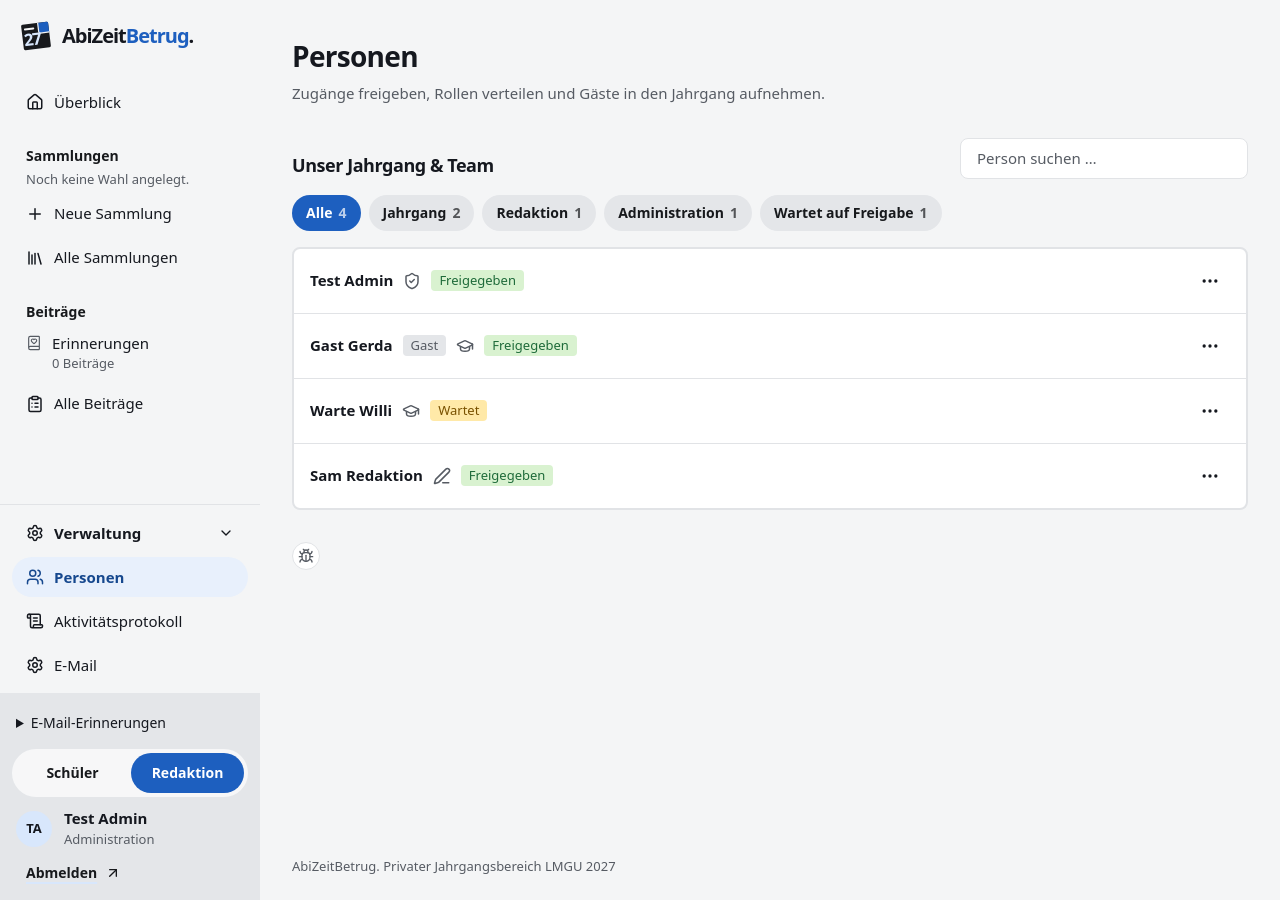
verwaltung › filters people with the quick filter chips
expect the text "Gast Gerda" is shown: met, box [310,334,393,357]
Step 1. Click the button "Wartet auf Freigabe 1" → (851, 213), box [760,195,942,231]
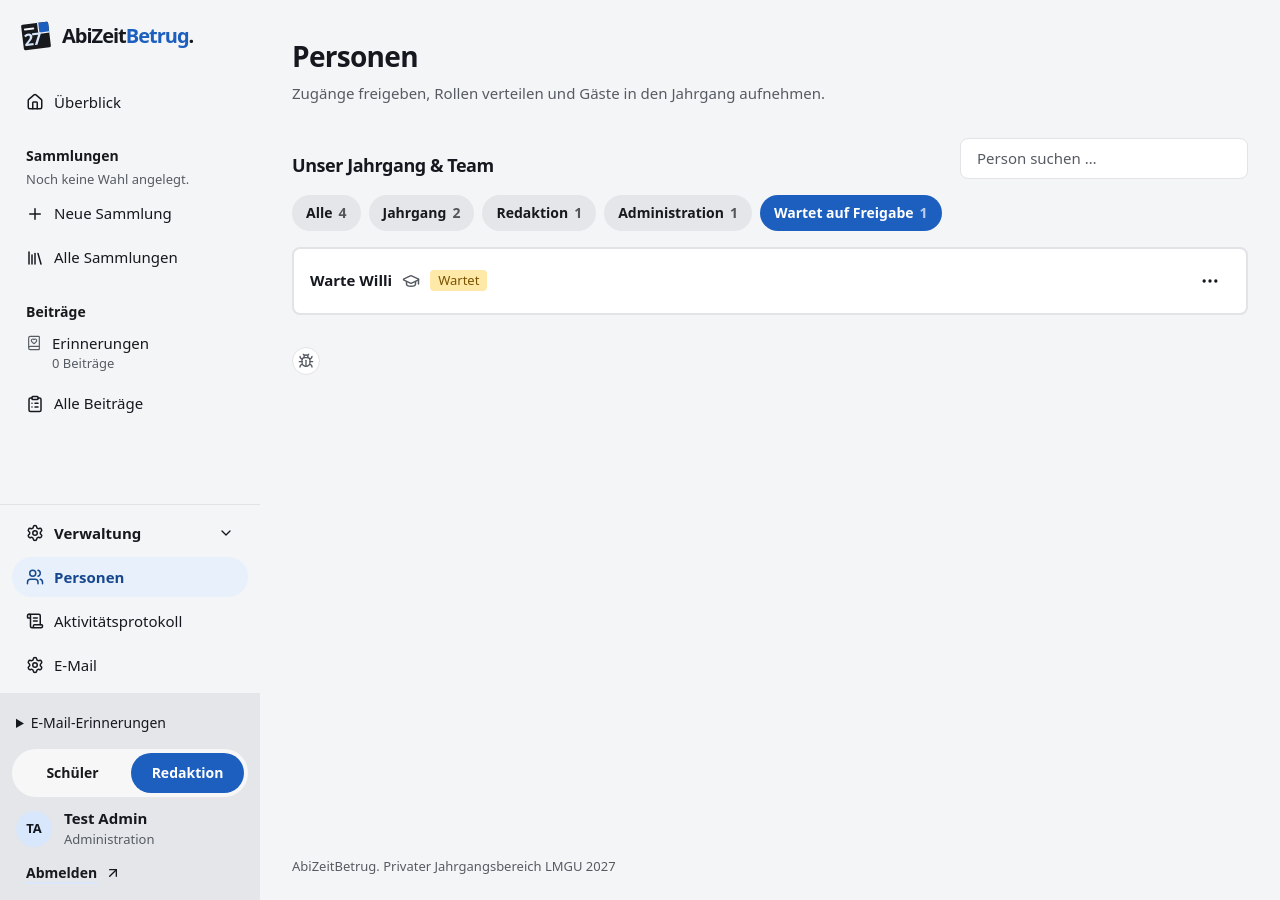
expect the text "Warte Willi" is shown: met, box [310,269,392,292]
expect the text "Gast Gerda" is gone: met
Step 2. Click the button "Redaktion 1" → (539, 213), box [482,195,596,231]
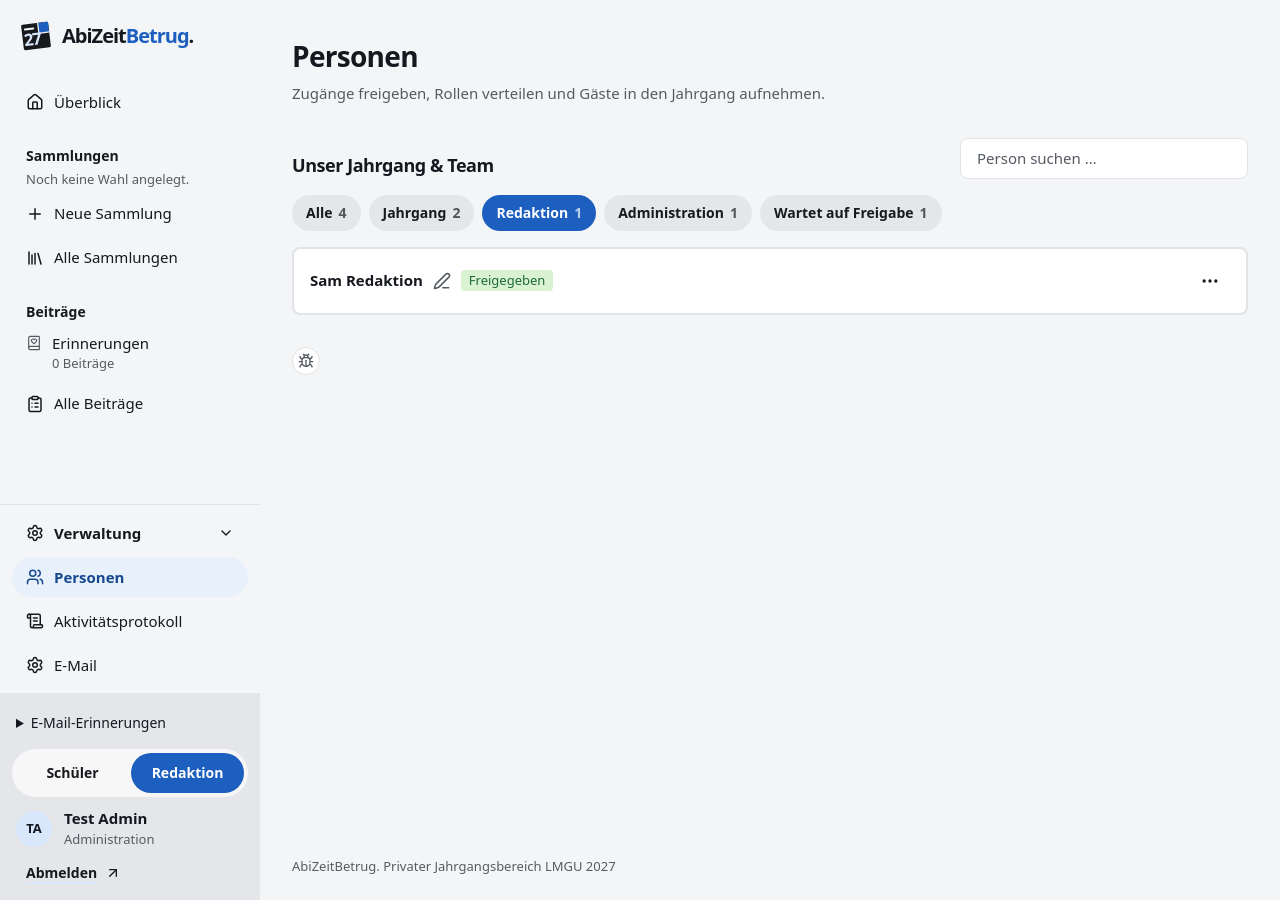
expect the text "Sam Redaktion" is shown: met, box [310,269,423,292]
expect the text "Warte Willi" is gone: met
